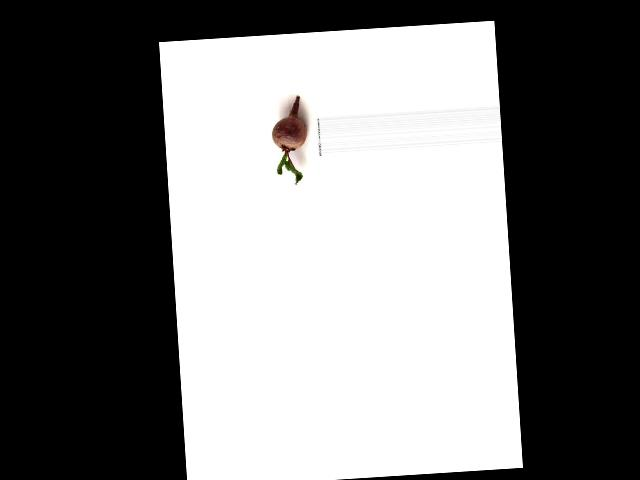beet: (270, 96, 310, 186)
